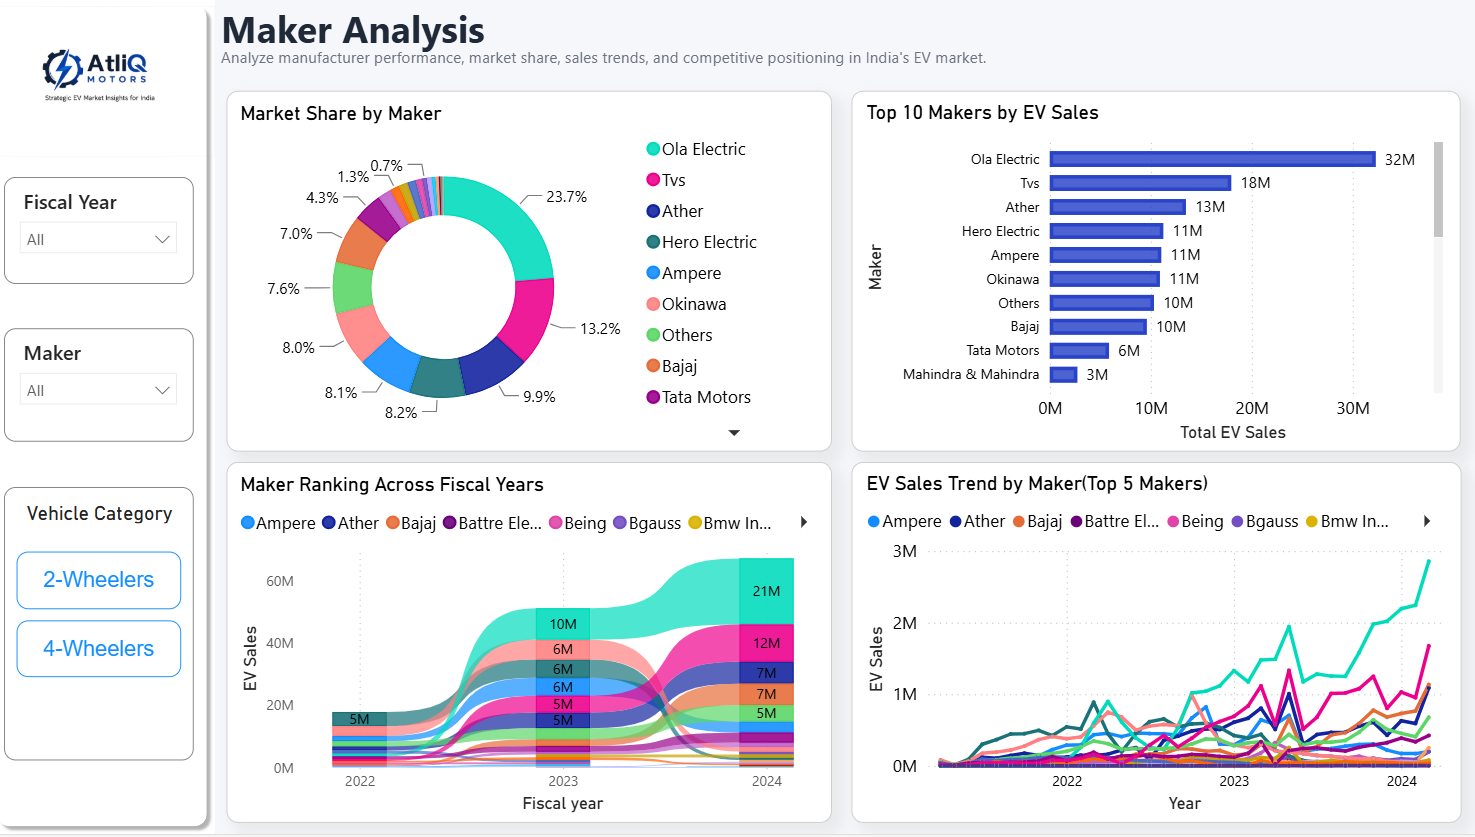

What the dashboard file says about the page in this screenshot:
{"tool":"powerbi","page":{"name":"Maker Analysis","canvas":[1280,720],"ordinal":2},"visuals":[{"type":"shape","box":[0,0,194.2,720.2],"z":0},{"type":"image","box":[0,0,194.2,146],"z":1000},{"type":"textbox","title":"Executive Overview","box":[194.2,0,325.7,73.6],"z":2000},{"type":"textbox","box":[194.2,37.4,696.1,43.4],"z":3000},{"type":"slicer","fields":{"Values":["Atliq.Fiscal_year"]},"box":[13.3,154.4,162.9,91.7],"z":4000},{"type":"slicer","fields":{"Values":["Atliq.Maker"]},"box":[13.3,284.7,162.9,97.7],"z":5000},{"type":"ChicletSlicer1448559807354","title":"Vehicle Category","fields":{"Category":["Atliq.Vehicle_category"]},"box":[13.3,421,162.9,235.3],"z":6000},{"type":"donutChart","title":"Market Share by Maker","fields":{"Y":["Measure.Total_EV_Sales_Maker"],"Category":["Atliq.Maker"]},"box":[203.9,80.8,521.2,310.1],"z":7000},{"type":"clusteredBarChart","title":"Top 10 Makers by EV Sales","fields":{"Category":["Atliq.Maker"],"Y":["Measure.Total_EV_Sales_Maker"]},"box":[742,80.8,524,310.1],"z":8000},{"type":"ribbonChart","title":"Maker Ranking Across Fiscal Years","fields":{"Category":["Atliq.Fiscal_year"],"Y":["Measure.Total_EV_Sales_Maker"],"Series":["Atliq.Maker"]},"box":[203.9,400.5,521.2,310.1],"z":9000},{"type":"lineChart","title":"EV Sales Trend by Maker(Top 5 Makers)","fields":{"Y":["Measure.Total_EV_Sales_Maker"],"Category":["Atliq.Date"],"Series":["Atliq.Maker"]},"box":[742,400.5,524.8,310.1],"z":10000}]}

Visuals, with their boxes in screenshot pixels (x1, y1, x2, y2), scaled from the page's 1280x720 canvas onto the 1475x837 screenshot:
shape: crop(0, 0, 224, 836)
image: crop(0, 0, 224, 170)
"Executive Overview" textbox: crop(224, 0, 599, 86)
textbox: crop(224, 43, 1026, 94)
slicer - Atliq.Fiscal_year: crop(15, 179, 203, 286)
slicer - Atliq.Maker: crop(15, 331, 203, 445)
"Vehicle Category" ChicletSlicer1448559807354: crop(15, 489, 203, 763)
"Market Share by Maker" donutChart: crop(235, 94, 836, 454)
"Top 10 Makers by EV Sales" clusteredBarChart: crop(855, 94, 1459, 454)
"Maker Ranking Across Fiscal Years" ribbonChart: crop(235, 466, 836, 826)
"EV Sales Trend by Maker(Top 5 Makers)" lineChart: crop(855, 466, 1460, 826)
